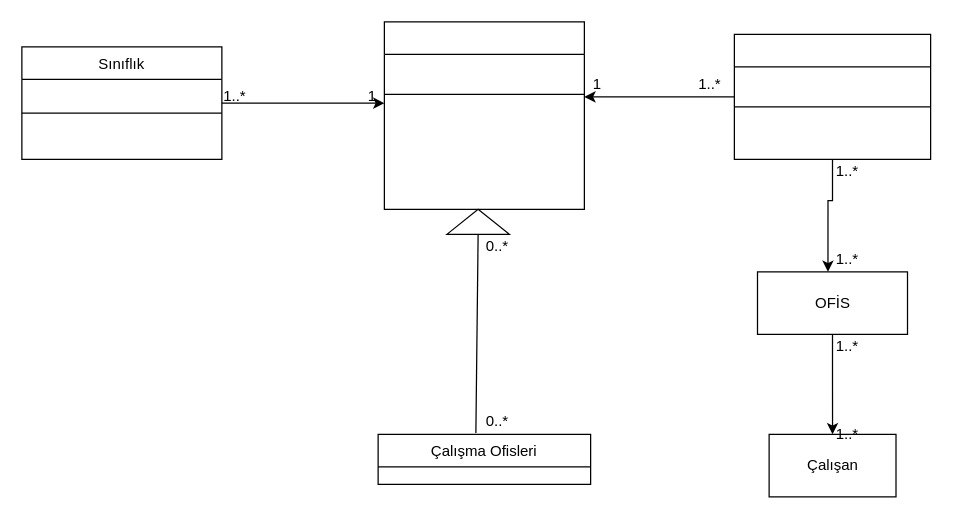
The diagram is 953 pixels wide and 519 high, and some of its shapes have lost their labels. Here are the shapes that lost their labels. From the top down, the centre of each, then its label:
the point at 483,115: Üniversite
the point at 832,96: Departman
